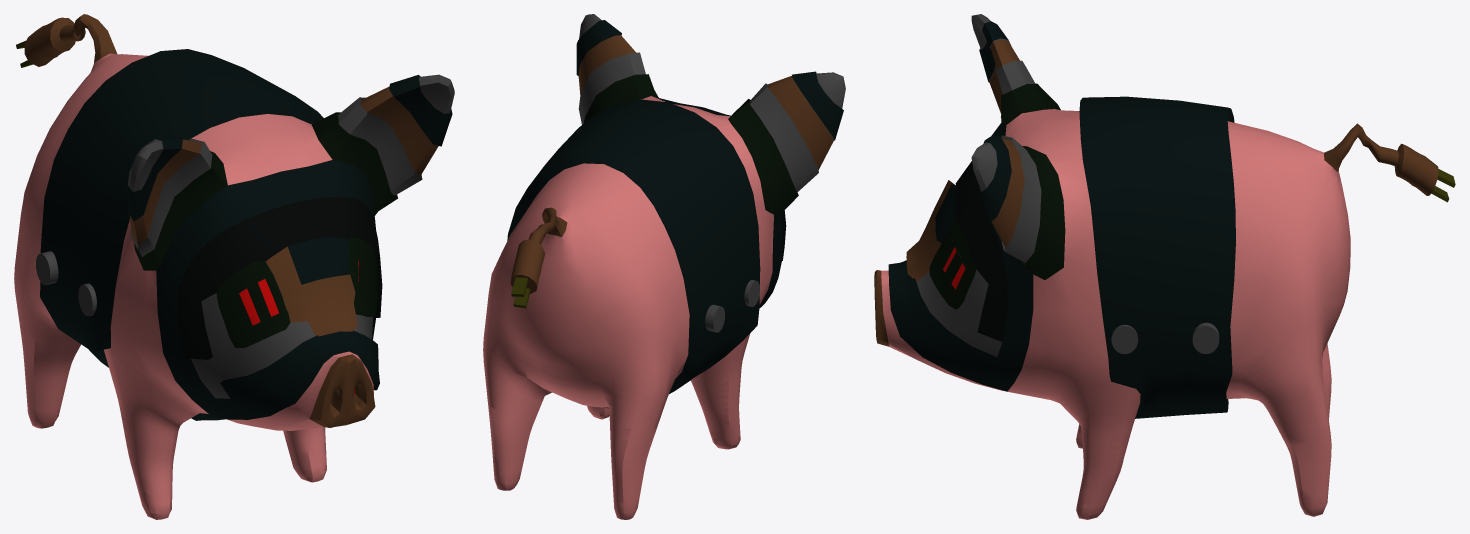
Rendered from mecacerdo.fbx.
3 views of the same model, side by side, from view 1: azimuth 30°, elevation 25°; view 2: azimuth 150°, elevation 25°; view 3: azimuth 270°, elevation 25° (orthographic). The views are drawn at different scales.
Parts seen in each view (by area): view 1: mecacerdo; view 2: mecacerdo; view 3: mecacerdo.
Part boxes in pixels (x1,y1,x2,y2): mecacerdo: (14,14,454,519); mecacerdo: (483,14,845,519); mecacerdo: (874,14,1455,519).
Size of the model in its own units: 73.85 by 93.87 by 123.
